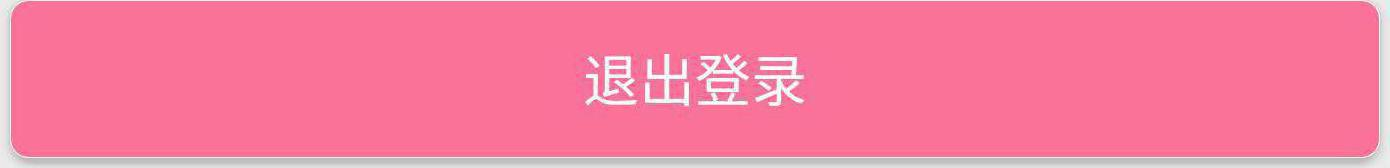Button: (1, 1, 1389, 167)
